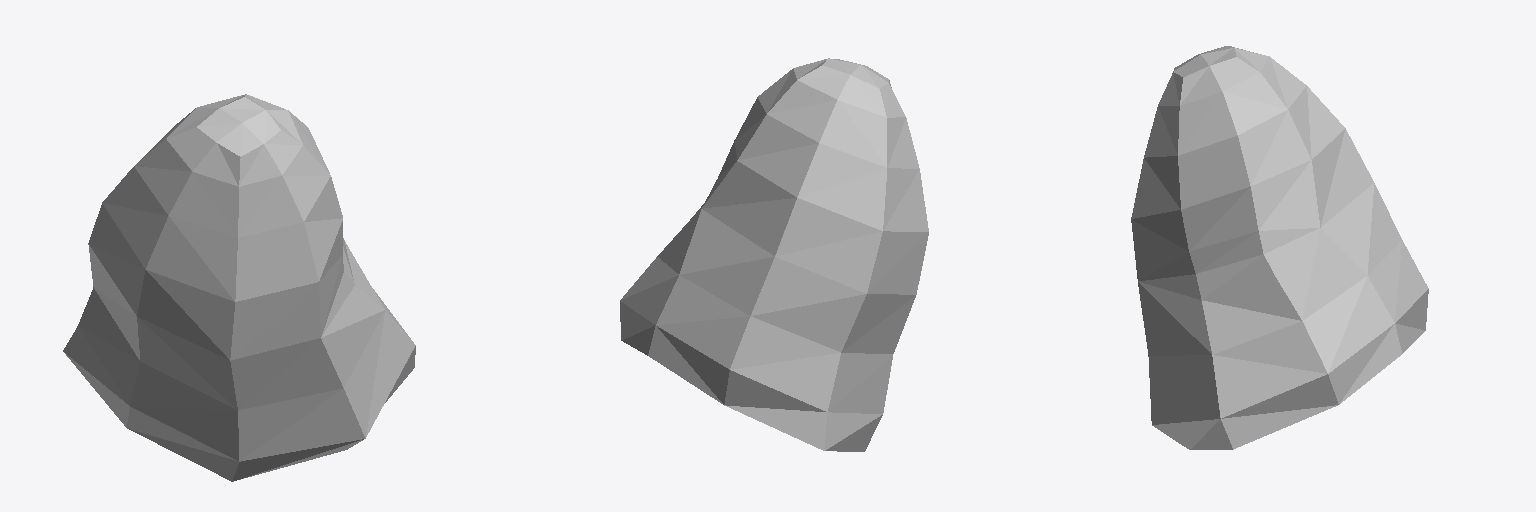
File: PM3D_rock032_009.OBJ
3 renders of one model, left to right at view 1: azimuth 30°, elevation 25°; view 2: azimuth 150°, elevation 25°; view 3: azimuth 270°, elevation 25°, orthographic.
Visible parts, largest first — view 1: Group39902; view 2: Group39902; view 3: Group39902.
Boxes of the visible parts, box(x1,y1,x2,y2) form: Group39902: box(63, 94, 415, 481); Group39902: box(620, 58, 928, 451); Group39902: box(1131, 46, 1428, 449).
Bounding box in the file's own units: 855 × 1101 × 812.